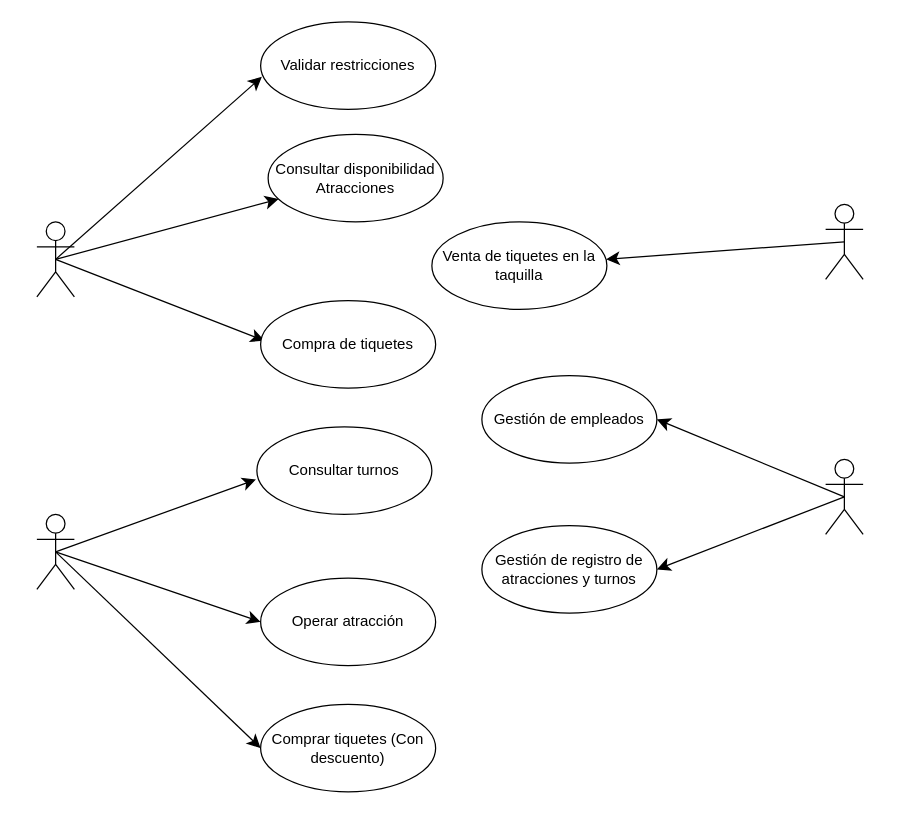
Some shapes in this 911 by 814 pixel diagram are drawn without their labels. Each missing label, with the box of its shape:
Administrador: (824, 458, 863, 534)
Cajero: (824, 203, 863, 279)
Cliente: (36, 221, 74, 297)
Empleado: (36, 513, 74, 589)
